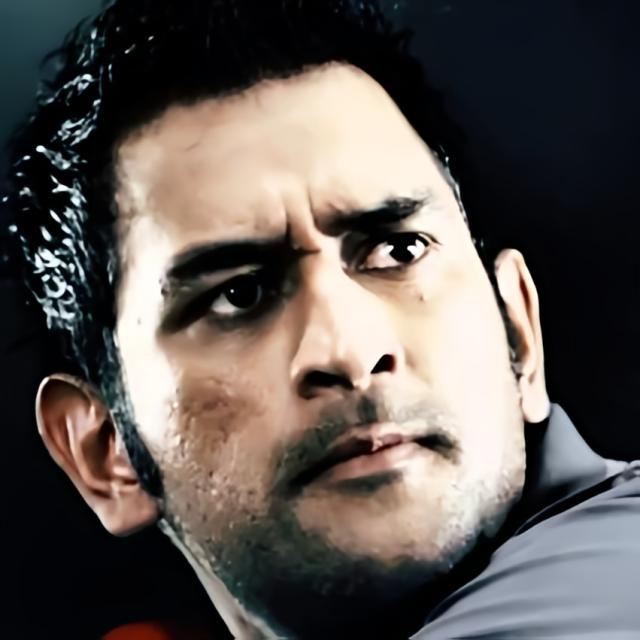anger: (115, 69, 511, 603)
